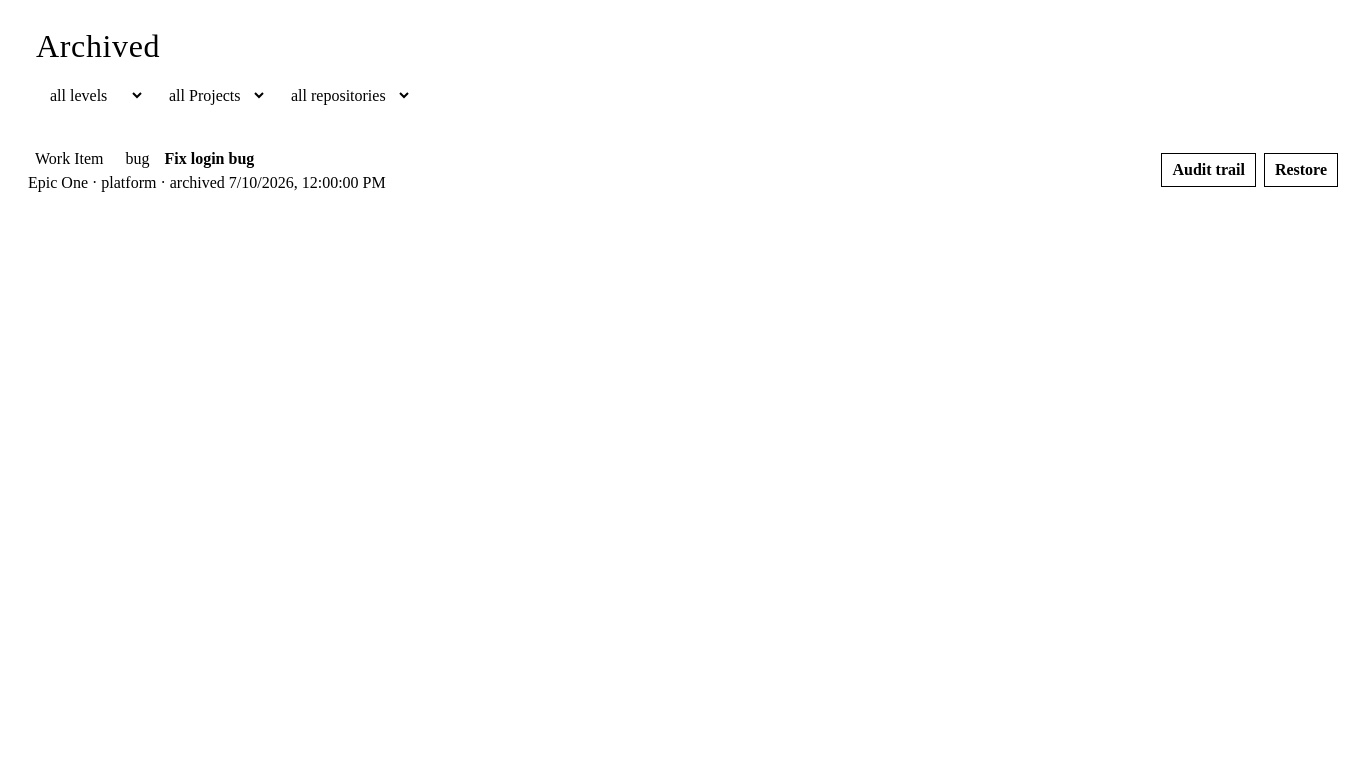
ArchivedPage › opens the audit trail modal and queries events for the selected entity
Click the button "Audit trail". click: (1209, 170)
box: x1=1161 y1=153 x2=1256 y2=187
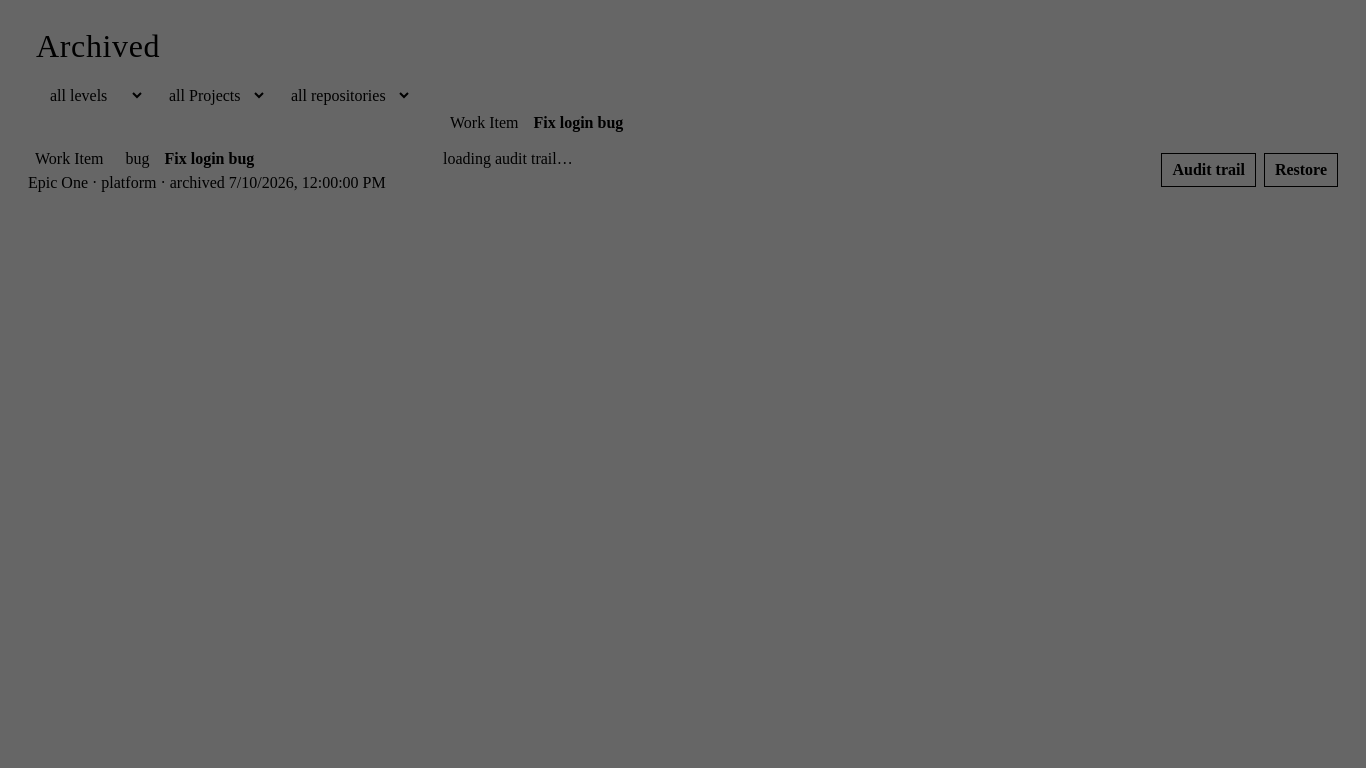
Result: the text "loading audit trail" is shown at x1=443 y1=150 x2=573 y2=167
